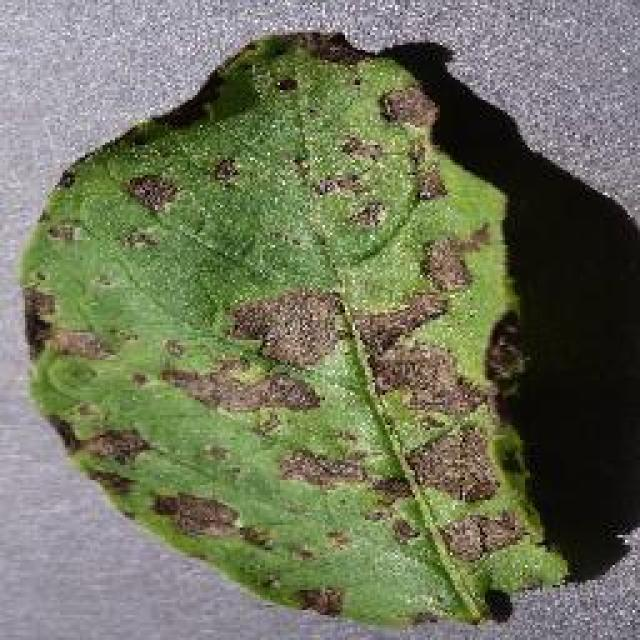early_blight: (15, 28, 575, 632)
